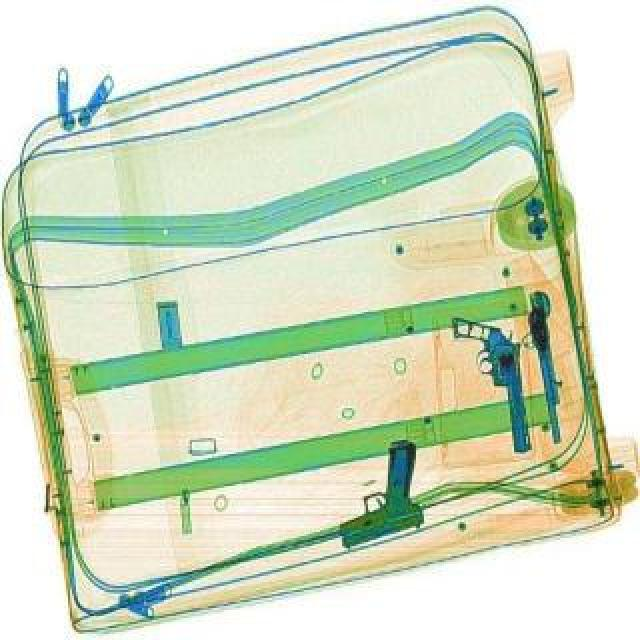gun: (312, 434, 440, 544), (448, 304, 538, 458), (520, 286, 576, 440)
